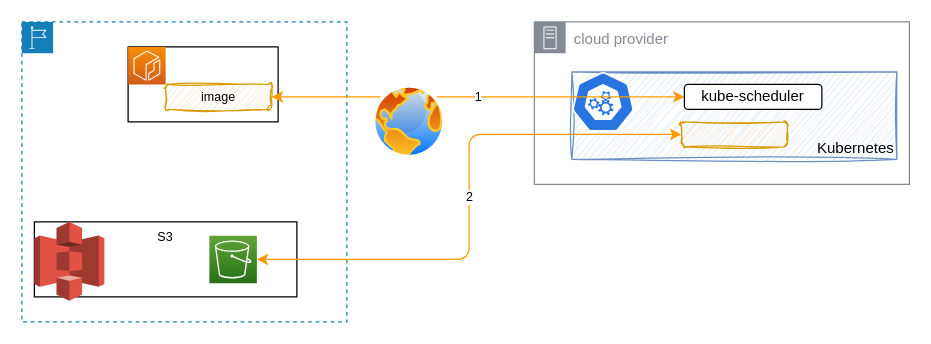
Some shapes in this 931 by 344 pixel diagram are drawn without their labels. Here are the shapes that lost their labels. From the top down, the box of each, then its label:
(127, 46, 278, 122): ECR
(680, 121, 788, 147): pod
(21, 21, 347, 322): Region
